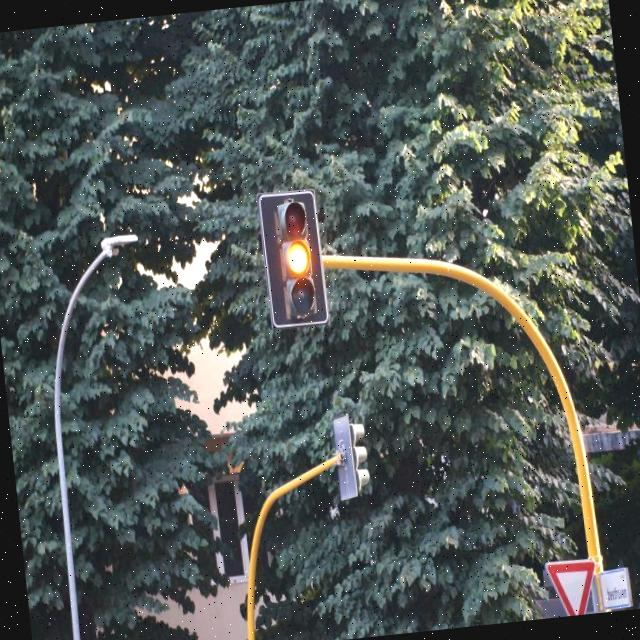yellow_light: (274, 204, 318, 327)
